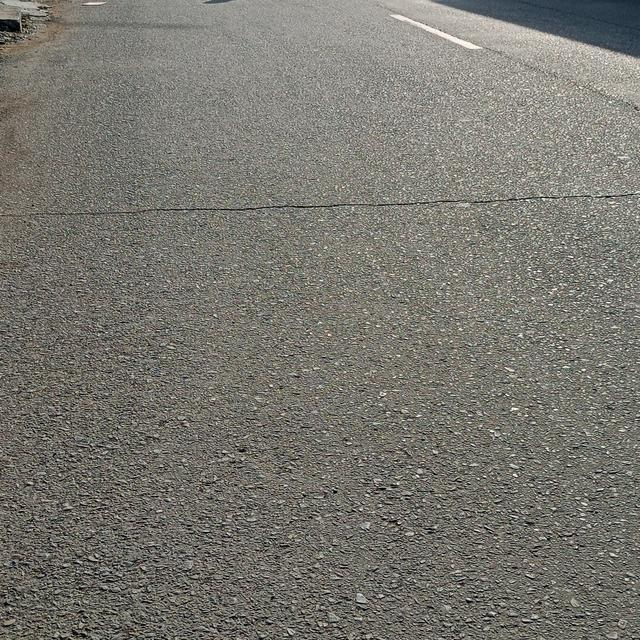Melintang: (0, 181, 640, 233)
